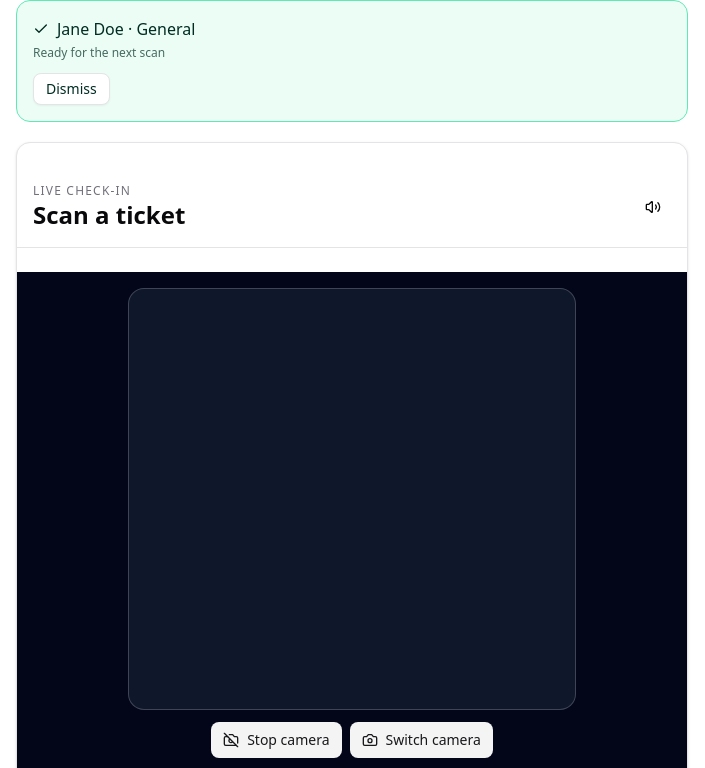
Test: check-in scanner › dismiss_successfulCredential_clearsTheBadge
Click the button "Dismiss": coordinates (71, 89) [33,73,110,105]
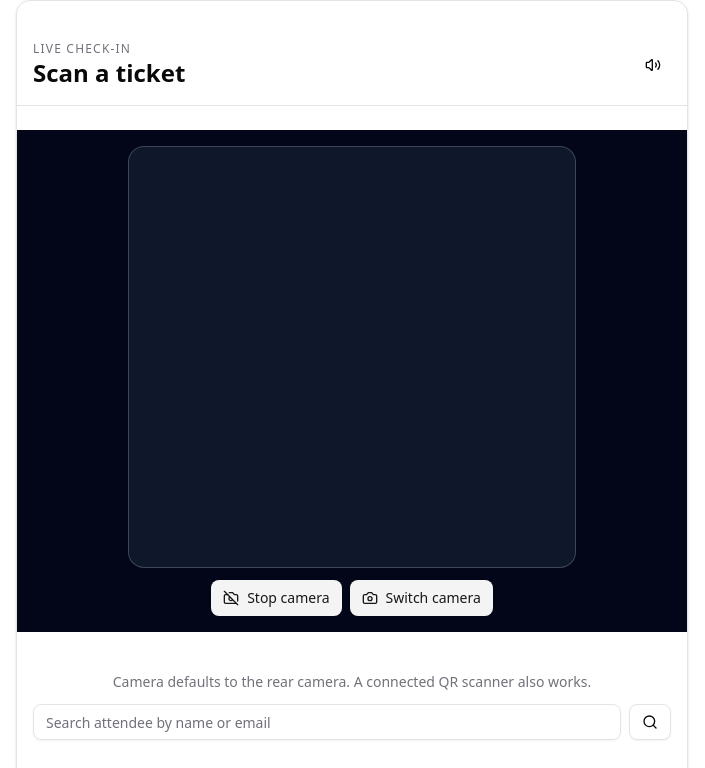
expect the message "Jane Doe · General Ready for the next scan Dismiss" is gone: met
